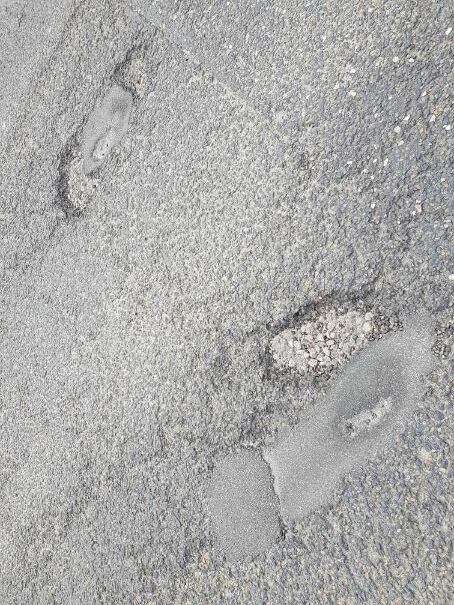pothole: (50, 35, 167, 224), (255, 287, 400, 391)
